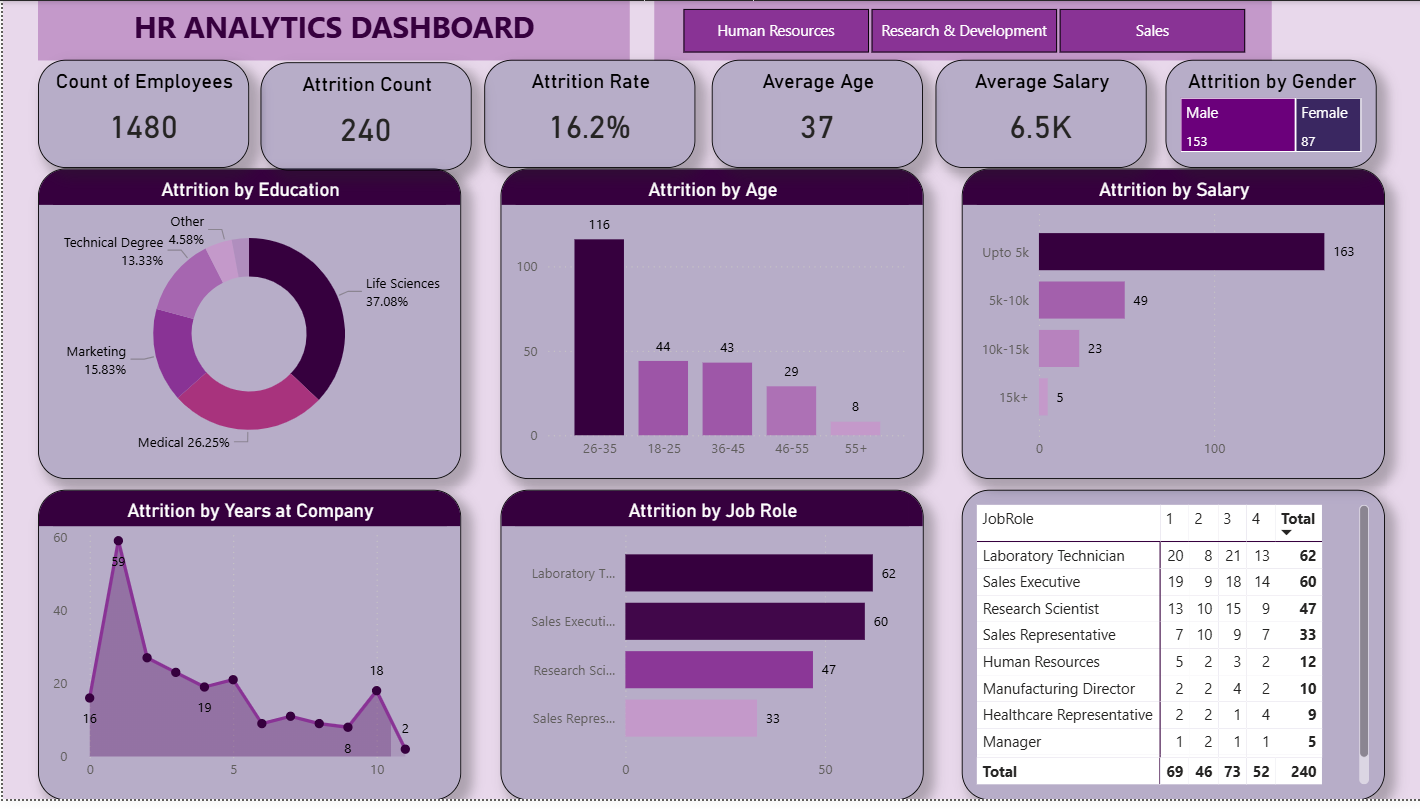

What the dashboard file says about the page in this screenshot:
{"tool":"powerbi","page":{"name":"Page 1","canvas":[1280,720],"ordinal":0},"visuals":[{"type":"donutChart","title":"Attrition by Education","fields":{"Category":["HR_Analytics.EducationField","HR_Analytics.YearsAtCompany"],"Y":["Sum(HR_Analytics.AttritionCount)"]},"box":[31.6,150.9,381.5,279.9],"z":0},{"type":"clusteredColumnChart","title":"Attrition by Age","fields":{"Y":["Sum(HR_Analytics.AttritionCount)"],"Category":["HR_Analytics.AgeGroup"]},"box":[448.7,150.9,381.5,279.9],"z":1000},{"type":"clusteredBarChart","title":"Attrition by Salary","fields":{"Y":["Sum(HR_Analytics.AttritionCount)"],"Category":["HR_Analytics.SalarySlab"]},"box":[864.5,150.9,381.5,279.9],"z":2000},{"type":"areaChart","title":"Attrition by Years at Company","fields":{"Category":["HR_Analytics.YearsAtCompany"],"Y":["Sum(HR_Analytics.AttritionCount)"]},"box":[31.6,440.5,381.5,279.9],"z":3000},{"type":"clusteredBarChart","title":"Attrition by Job Role","fields":{"Category":["HR_Analytics.JobRole"],"Y":["Sum(HR_Analytics.AttritionCount)"]},"box":[448.7,440.5,381.5,279.9],"z":4000},{"type":"pivotTable","title":"Attrition by Age","fields":{"Values":["Sum(HR_Analytics.AttritionCount)"],"Rows":["HR_Analytics.JobRole"],"Columns":["HR_Analytics.JobSatisfaction"]},"box":[864.5,440.5,381.5,279.9],"z":5000},{"type":"textbox","box":[31.6,0,533.8,53.5],"z":6000},{"type":"slicer","fields":{"Values":["HR_Analytics.Department"]},"box":[587.3,0,557.1,53.5],"z":7000},{"type":"card","title":"Count of Employees","fields":{"Values":["CountNonNull(HR_Analytics.EmpID)"]},"box":[31.6,53.5,190.7,97.4],"z":8000},{"type":"treemap","title":"Attrition by Gender","fields":{"Group":["HR_Analytics.Gender"],"Values":["Sum(HR_Analytics.AttritionCount)"]},"box":[1048.4,53.5,190.7,97.4],"z":9000},{"type":"card","title":"Average Salary","fields":{"Values":["calculated_table.AverageSalary"]},"box":[841.2,53.5,190.7,97.4],"z":10000},{"type":"card","title":"Average Age","fields":{"Values":["calculated_table.AverageAge"]},"box":[639.5,53.5,190.7,97.4],"z":11000},{"type":"card","title":"Attrition Rate","fields":{"Values":["calculated_table.AttritionRate"]},"box":[433.6,53.5,190.7,97.4],"z":12000},{"type":"card","title":"Attrition Count","fields":{"Values":["Sum(HR_Analytics.AttritionCount)"]},"box":[231.9,54.9,190.7,97.4],"z":13000}]}

Visuals, with their boxes in screenshot pixels (x1, y1, x2, y2), scaled from the page's 1280x720 canvas onto the 1420x809 screenshot:
"Attrition by Education" donutChart: 35, 170, 458, 484
"Attrition by Age" clusteredColumnChart: 498, 170, 921, 484
"Attrition by Salary" clusteredBarChart: 959, 170, 1382, 484
"Attrition by Years at Company" areaChart: 35, 495, 458, 808
"Attrition by Job Role" clusteredBarChart: 498, 495, 921, 808
"Attrition by Age" pivotTable: 959, 495, 1382, 808
textbox: 35, 0, 627, 60
slicer - HR_Analytics.Department: 652, 0, 1270, 60
"Count of Employees" card: 35, 60, 247, 170
"Attrition by Gender" treemap: 1163, 60, 1375, 170
"Average Salary" card: 933, 60, 1145, 170
"Average Age" card: 709, 60, 921, 170
"Attrition Rate" card: 481, 60, 693, 170
"Attrition Count" card: 257, 62, 469, 171
